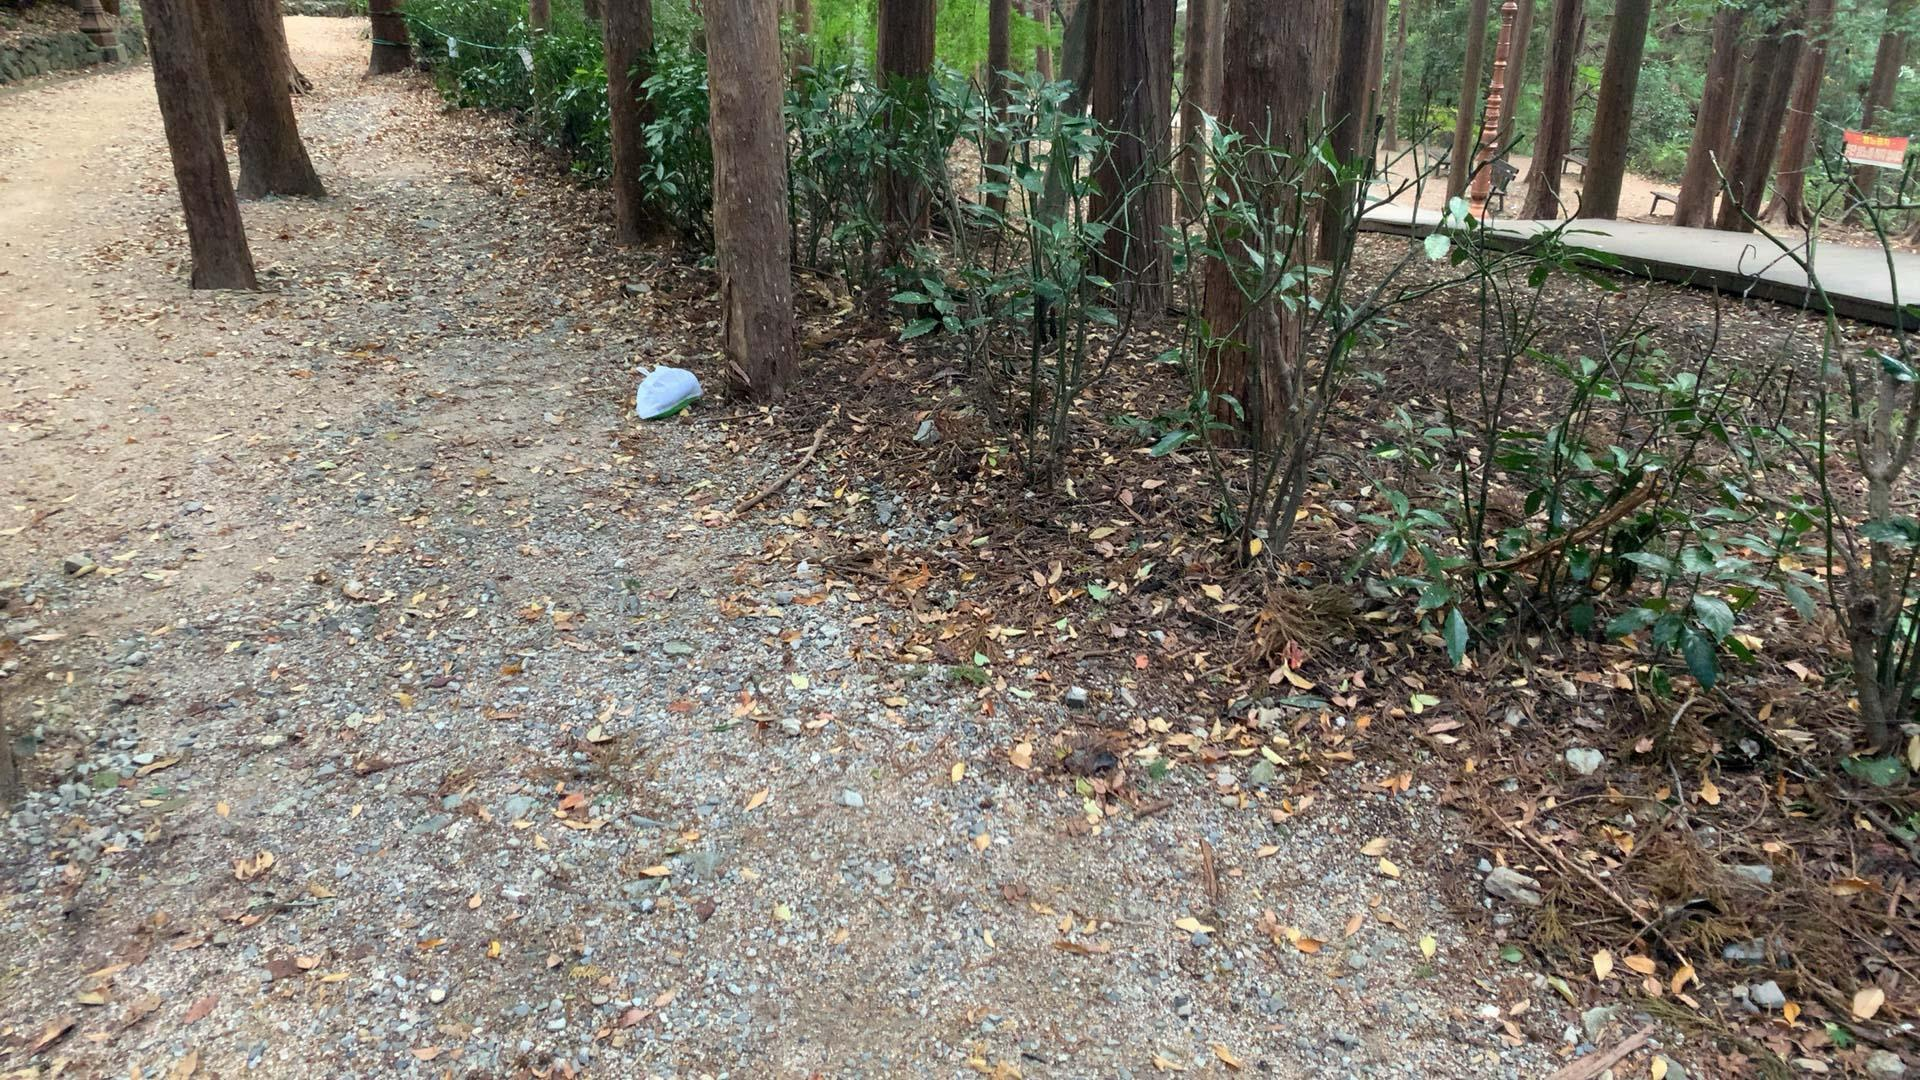white_bag: (622, 353, 712, 426)
